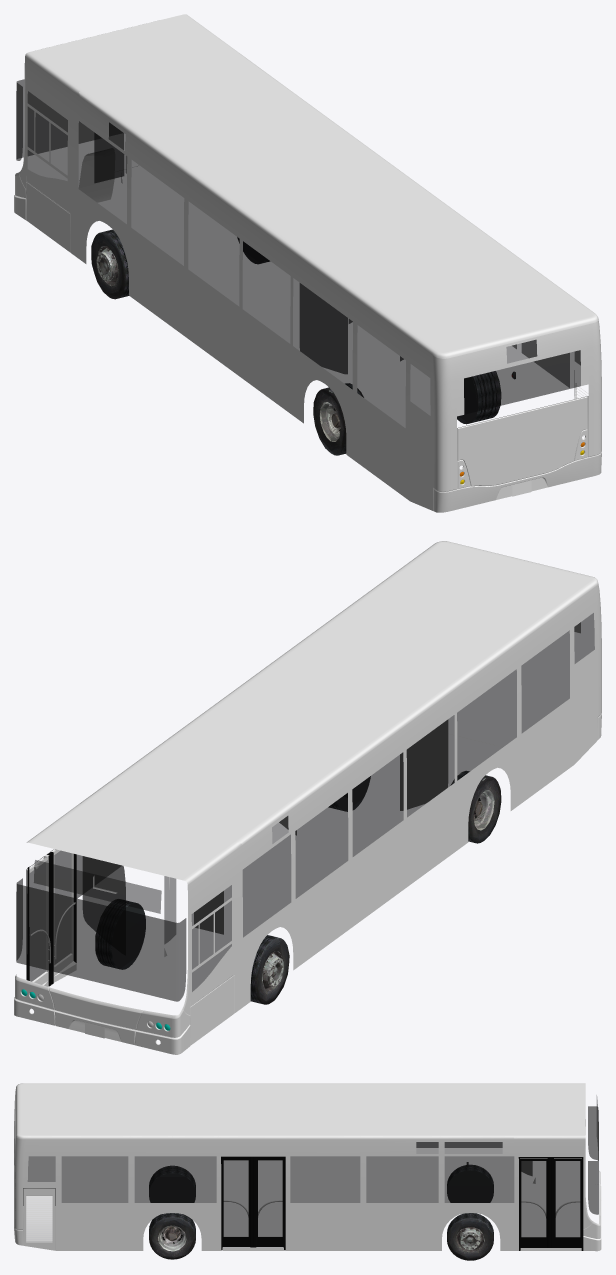
File: bus.glb
The picture shows the model from 3 angles, top to bottom: view 1: azimuth 30°, elevation 25°; view 2: azimuth 150°, elevation 25°; view 3: azimuth 270°, elevation 25°; orthographic projection. The views are drawn at different scales.
Visible parts, largest first — view 1: Chassis_m08_dxn1body8, windscreen_m00_cor, Chassis_m05_dxn1body5, Chassis_m09_dxn1body9, Chassis_m07_dxn1body7, Chassis_m06_dxn1body6, bump_rear_ok_m01_dxn1body1, Chassis_m01_dxn1body1, Chassis_m29_cor, Chassis_m04_dxn1body4, wheel_lf, wheel_lb (+4 smaller); view 2: Chassis_m08_dxn1body8, windscreen_m00_cor, Chassis_m05_dxn1body5, Chassis_m09_dxn1body9, Chassis_m07_dxn1body7, Chassis_m06_dxn1body6, Chassis_m29_cor, Chassis_m01_dxn1body1, door_rf_ok_m03_cor, scheiben_m00_cor, wheel_lf, door_rf_ok_m01_cor (+6 smaller); view 3: Chassis_m08_dxn1body8, windscreen_m00_cor, Chassis_m04_dxn1body4, Chassis_m03_dxn1body3, Chassis_m09_dxn1body9, Chassis_m02_dxn1body2, door_rf_ok_m03_cor, windscreen_m03_cor, Chassis_m01_dxn1body1, Chassis_m38_cor, door_rf_ok_m00_cor, wheel_rb (+6 smaller).
Part boxes in pixels (x1,y1,x2,y2): Chassis_m08_dxn1body8: [25, 14, 486, 276]; windscreen_m00_cor: [16, 79, 580, 427]; Chassis_m05_dxn1body5: [14, 57, 457, 512]; Chassis_m09_dxn1body9: [326, 234, 598, 358]; Chassis_m07_dxn1body7: [188, 177, 325, 423]; Chassis_m06_dxn1body6: [77, 97, 189, 338]; bump_rear_ok_m01_dxn1body1: [458, 397, 587, 485]; Chassis_m01_dxn1body1: [132, 166, 588, 509]; Chassis_m29_cor: [300, 283, 403, 373]; Chassis_m04_dxn1body4: [574, 319, 601, 477]; wheel_lf: [91, 229, 128, 299]; wheel_lb: [313, 383, 363, 455]; Chassis_m08_dxn1body8: [26, 622, 488, 884]; windscreen_m00_cor: [16, 613, 594, 1001]; Chassis_m05_dxn1body5: [171, 584, 601, 1054]; Chassis_m09_dxn1body9: [327, 541, 598, 664]; Chassis_m07_dxn1body7: [351, 665, 489, 926]; Chassis_m06_dxn1body6: [241, 765, 352, 1008]; Chassis_m29_cor: [82, 720, 447, 955]; Chassis_m01_dxn1body1: [14, 974, 172, 1053]; door_rf_ok_m03_cor: [29, 850, 70, 981]; scheiben_m00_cor: [34, 816, 288, 913]; wheel_lf: [250, 935, 289, 1004]; door_rf_ok_m01_cor: [26, 849, 76, 986]; Chassis_m08_dxn1body8: [172, 1083, 585, 1139]; windscreen_m00_cor: [14, 1106, 598, 1214]; Chassis_m04_dxn1body4: [14, 1136, 172, 1250]; Chassis_m03_dxn1body3: [172, 1139, 360, 1250]; Chassis_m09_dxn1body9: [16, 1083, 172, 1139]; Chassis_m02_dxn1body2: [360, 1139, 518, 1250]; door_rf_ok_m03_cor: [521, 1161, 580, 1237]; windscreen_m03_cor: [223, 1160, 282, 1236]; Chassis_m01_dxn1body1: [14, 1092, 601, 1251]; Chassis_m38_cor: [222, 1157, 284, 1247]; door_rf_ok_m00_cor: [520, 1158, 581, 1247]; wheel_rb: [149, 1213, 195, 1259].
Size of the model in its own units: 2.69 by 2.76 by 11.75.
Materials: 16 (2 with a texture image).
